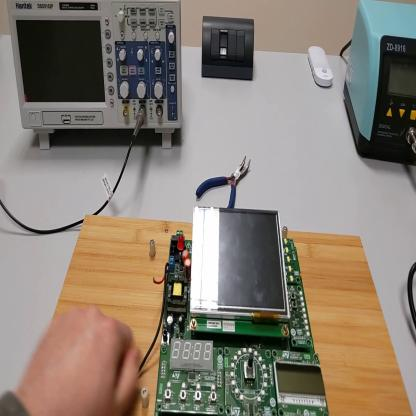hand: (23, 303, 140, 412)
low voltage board: (145, 207, 329, 414)
oscilloscope: (8, 2, 184, 154)
pliers: (196, 154, 253, 214)
welder station: (344, 3, 416, 167)
working area: (42, 216, 413, 416)
